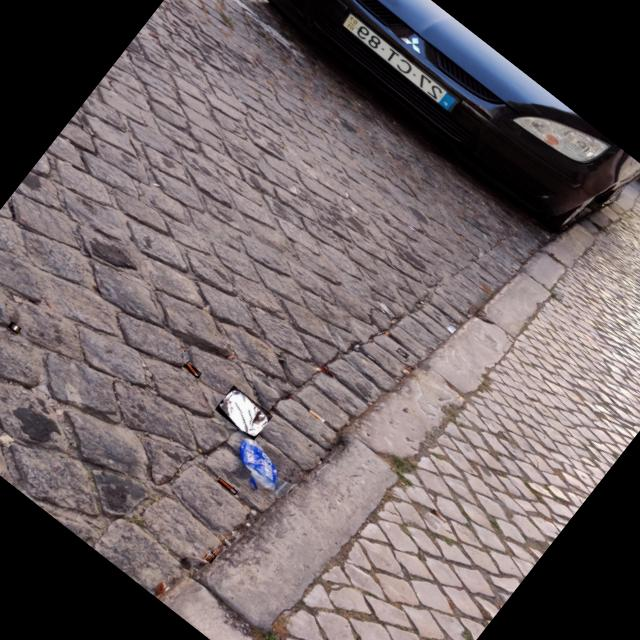Aluminium foil: (218, 390, 268, 437)
Bottle cap: (396, 349, 407, 357)
Cigarette: (217, 478, 236, 495), (185, 364, 199, 377), (431, 509, 445, 522), (309, 411, 324, 422), (0, 435, 13, 444), (205, 553, 214, 562), (292, 187, 297, 195), (458, 235, 465, 239)
Plastic film: (314, 368, 323, 373)
Unlabeled litter: (7, 323, 20, 334), (446, 326, 456, 333)
